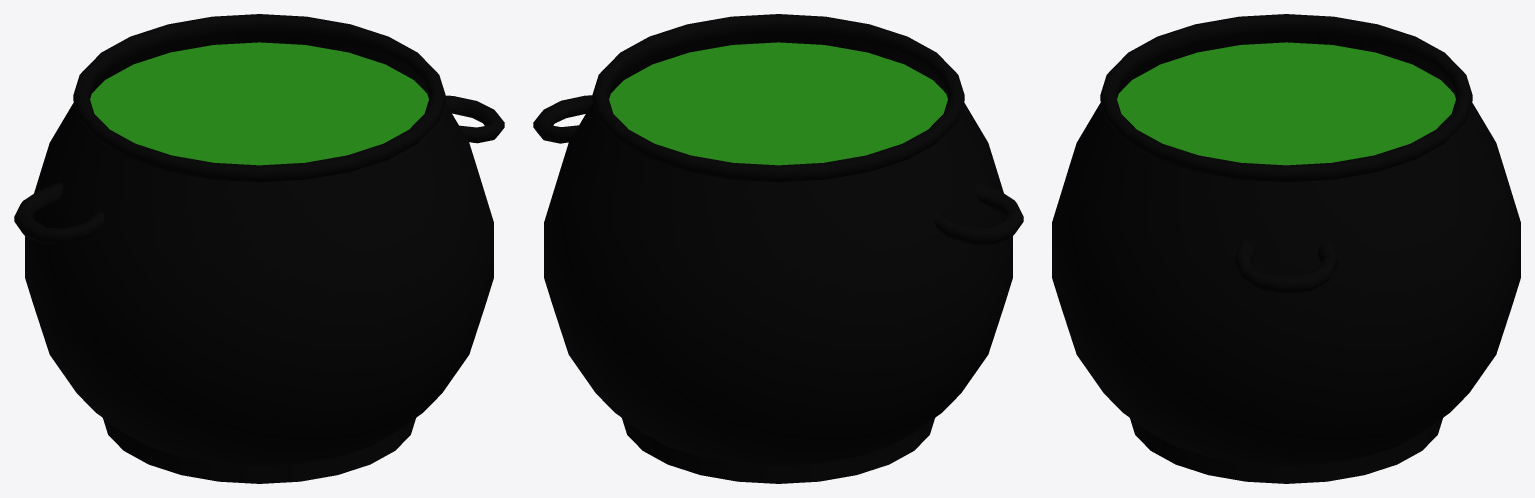
File: SM_Cauldron.fbx
The picture shows the model from 3 angles, left to right: view 1: azimuth 30°, elevation 25°; view 2: azimuth 150°, elevation 25°; view 3: azimuth 270°, elevation 25°; orthographic projection.
Visible parts, largest first — view 1: Cauldron, water; view 2: Cauldron, water; view 3: Cauldron, water.
Part boxes in pixels (box(x1,y1,x2,y2)): Cauldron: box(14, 14, 504, 483); water: box(90, 42, 428, 165); Cauldron: box(533, 14, 1023, 483); water: box(609, 42, 947, 165); Cauldron: box(1052, 14, 1520, 483); water: box(1117, 42, 1455, 165).
Size of the model in its own units: 301 by 198 by 258.
